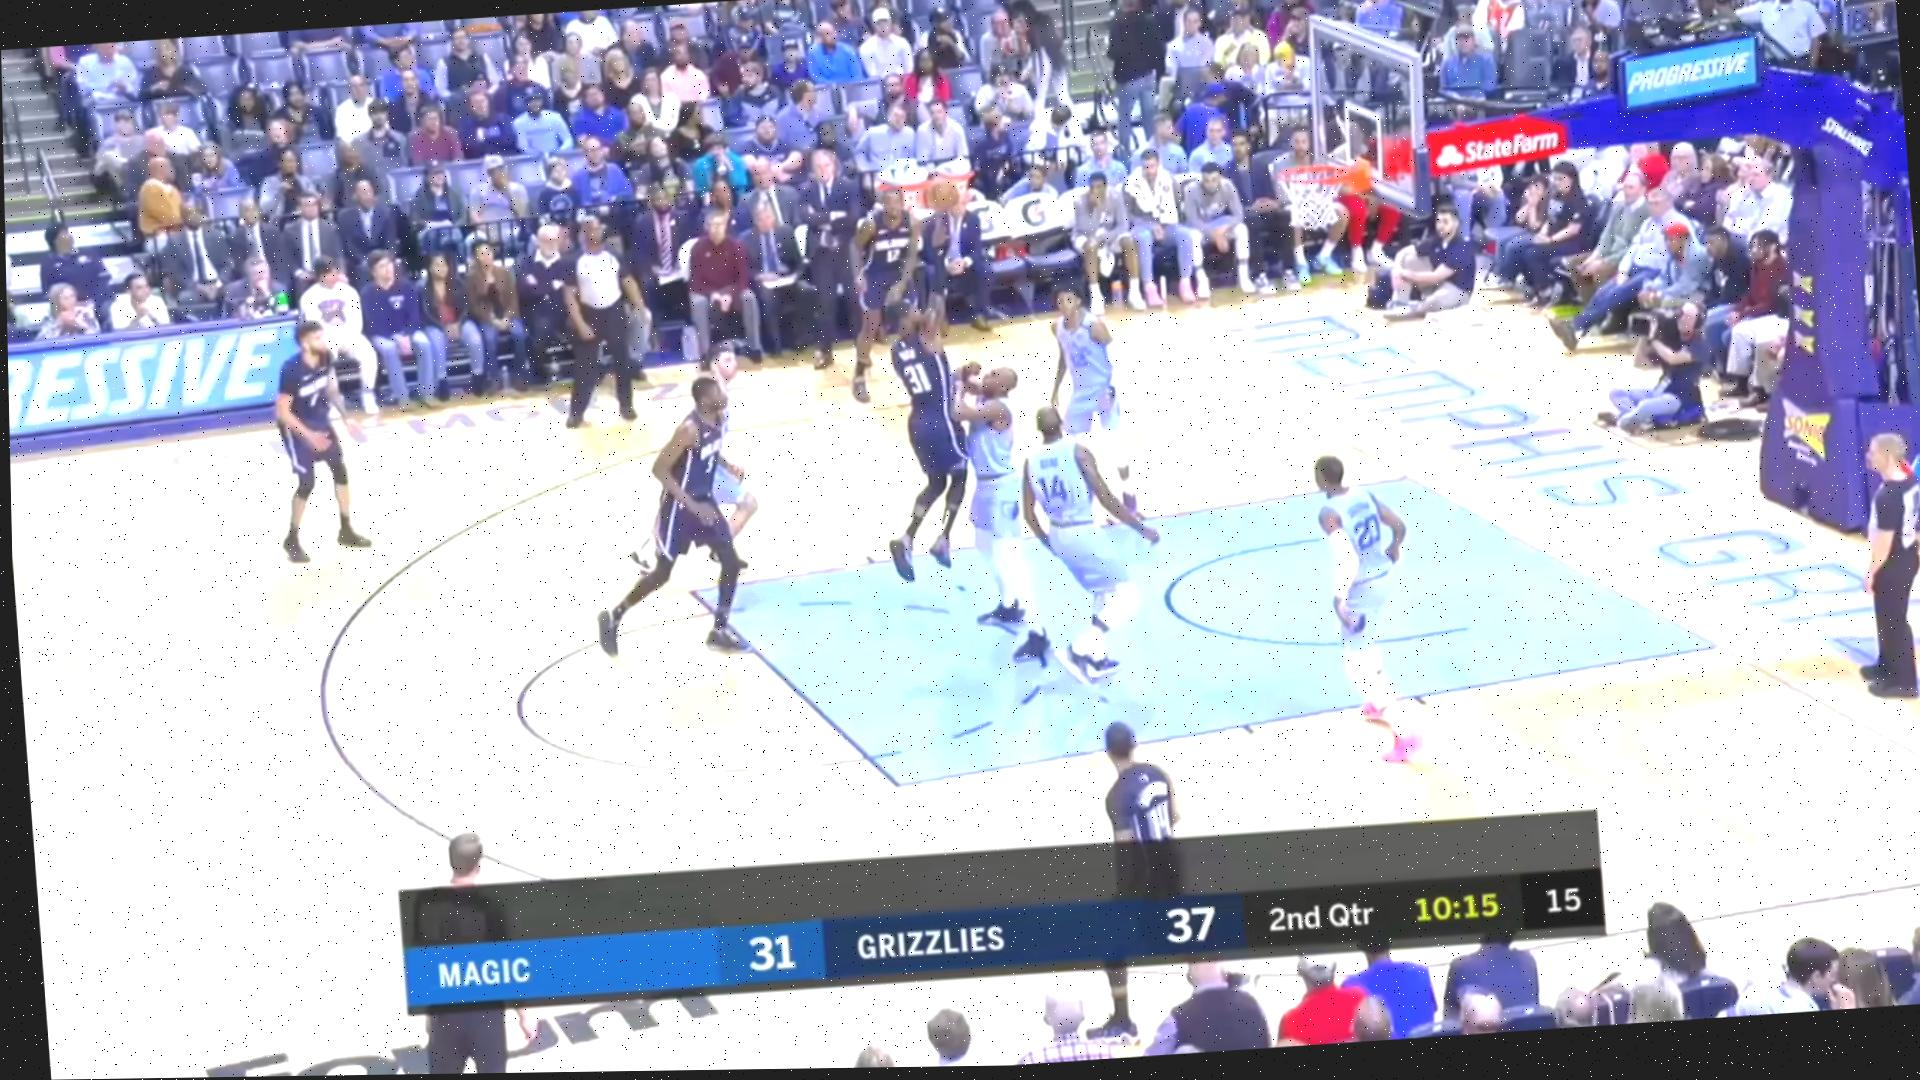foul: (886, 282, 1036, 624)
